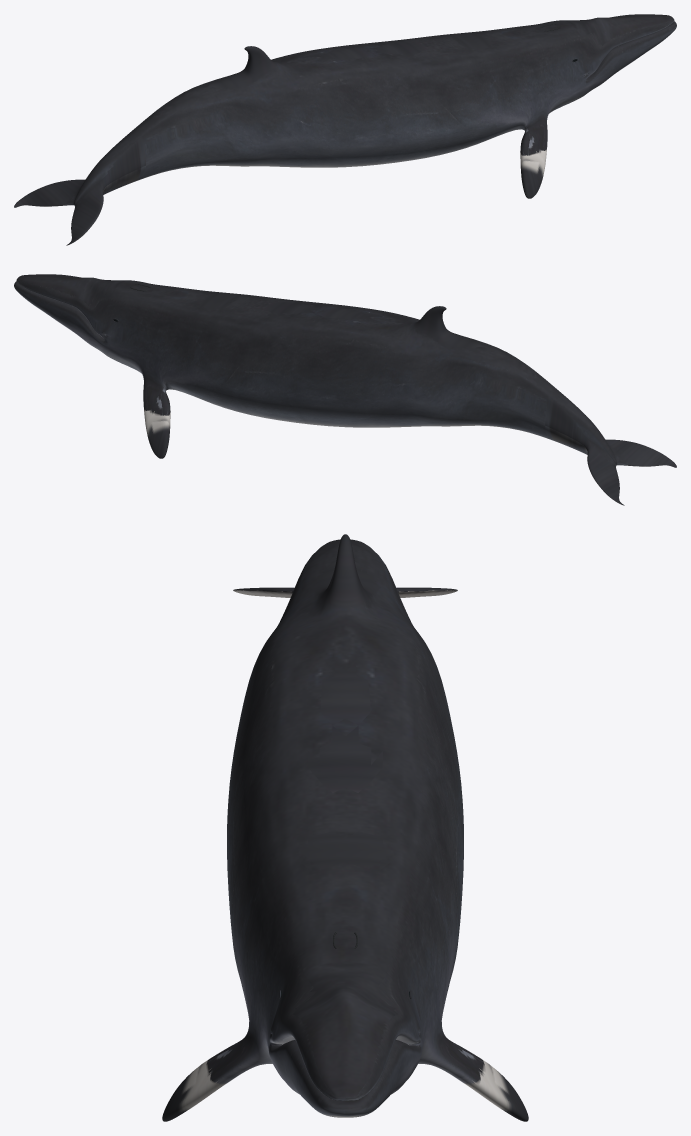
Rendered from model-cetacean-balaenoptera-acutorostrata-v0678.glb.
3 renders of one model, top to bottom at view 1: azimuth 30°, elevation 25°; view 2: azimuth 150°, elevation 25°; view 3: azimuth 270°, elevation 25°, orthographic. The views are drawn at different scales.
Parts seen in each view (by area): view 1: balaenoptera-acutorostrata licensed source body; view 2: balaenoptera-acutorostrata licensed source body; view 3: balaenoptera-acutorostrata licensed source body.
Boxes of the visible parts, x1=… form: balaenoptera-acutorostrata licensed source body: x1=14, y1=14, x2=676, y2=245; balaenoptera-acutorostrata licensed source body: x1=14, y1=274, x2=676, y2=505; balaenoptera-acutorostrata licensed source body: x1=162, y1=534, x2=528, y2=1121.
Bounding box in the file's own units: 3.83 × 1.02 × 0.9567.
3 materials, 1 textured.
